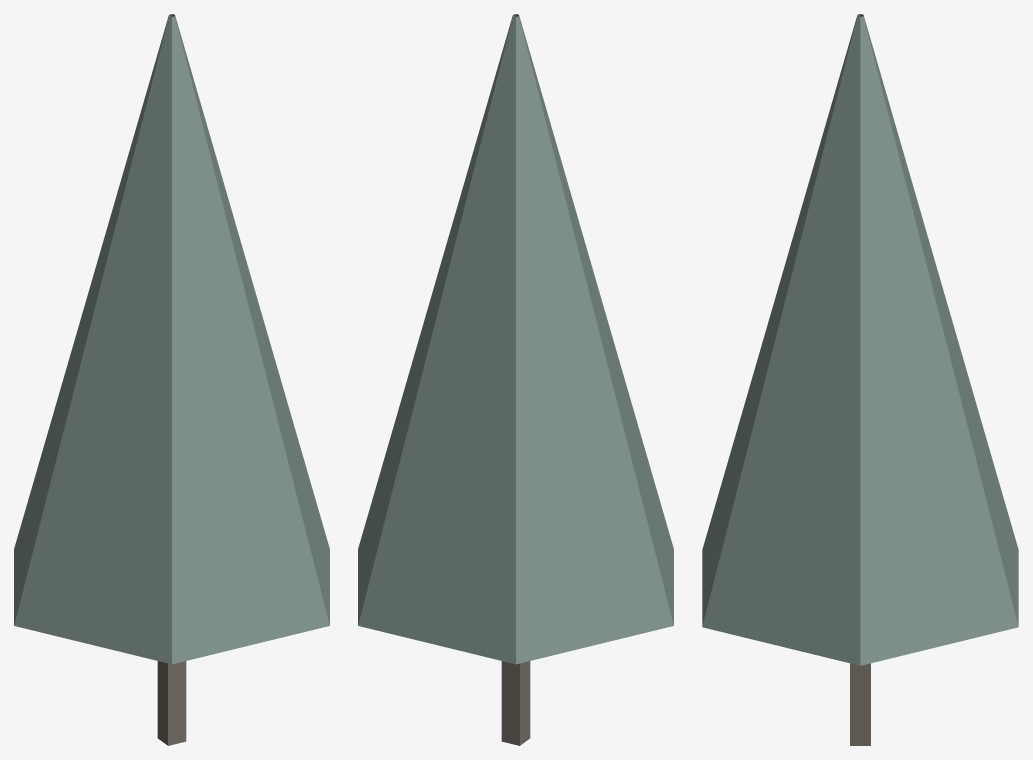
File: tree_pine_far.glb
3 renders of one model, left to right at view 1: azimuth 30°, elevation 25°; view 2: azimuth 150°, elevation 25°; view 3: azimuth 270°, elevation 25°, orthographic.
Visible parts, largest first — view 1: tree_pine_far; view 2: tree_pine_far; view 3: tree_pine_far.
Boxes of the visible parts, bbox=[...] form: tree_pine_far: bbox=[14, 14, 329, 745]; tree_pine_far: bbox=[358, 14, 673, 745]; tree_pine_far: bbox=[702, 14, 1018, 745].
Size of the model in its own units: 5.2 by 11.4 by 4.5.
